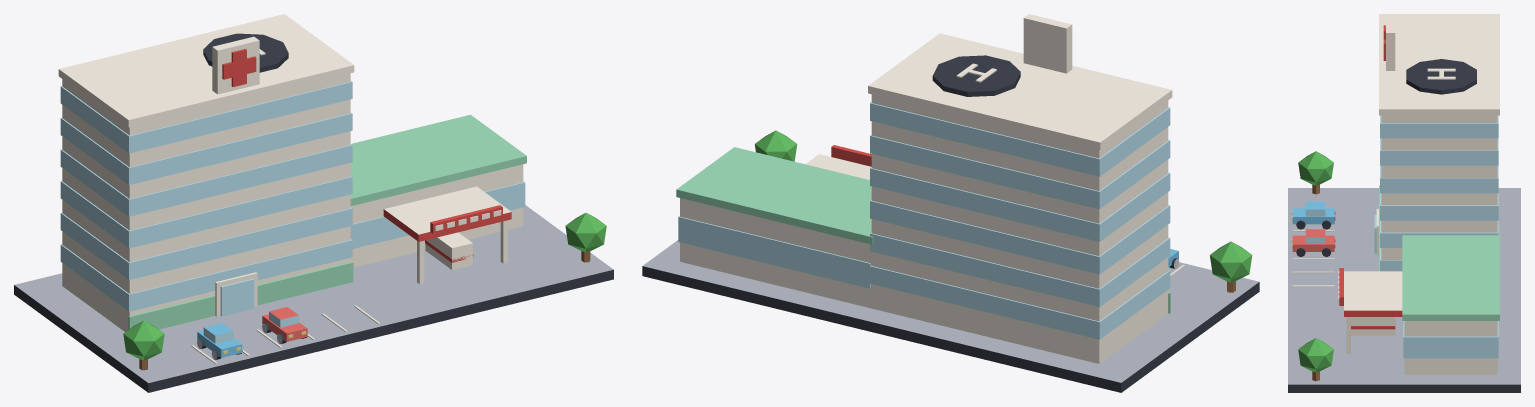
Rendered from public_hospital.glb.
3 renders of one model, left to right at view 1: azimuth 30°, elevation 25°; view 2: azimuth 150°, elevation 25°; view 3: azimuth 270°, elevation 25°, orthographic. The views are drawn at different scales.
Parts seen in each view (by area): view 1: public_hospital; view 2: public_hospital; view 3: public_hospital.
Boxes of the visible parts, x1,y1,x2,y2 form: public_hospital: (14, 14, 613, 392); public_hospital: (642, 14, 1259, 392); public_hospital: (1288, 14, 1520, 392).
Bounding box in the file's own units: 2.05 × 1.11 × 1.
